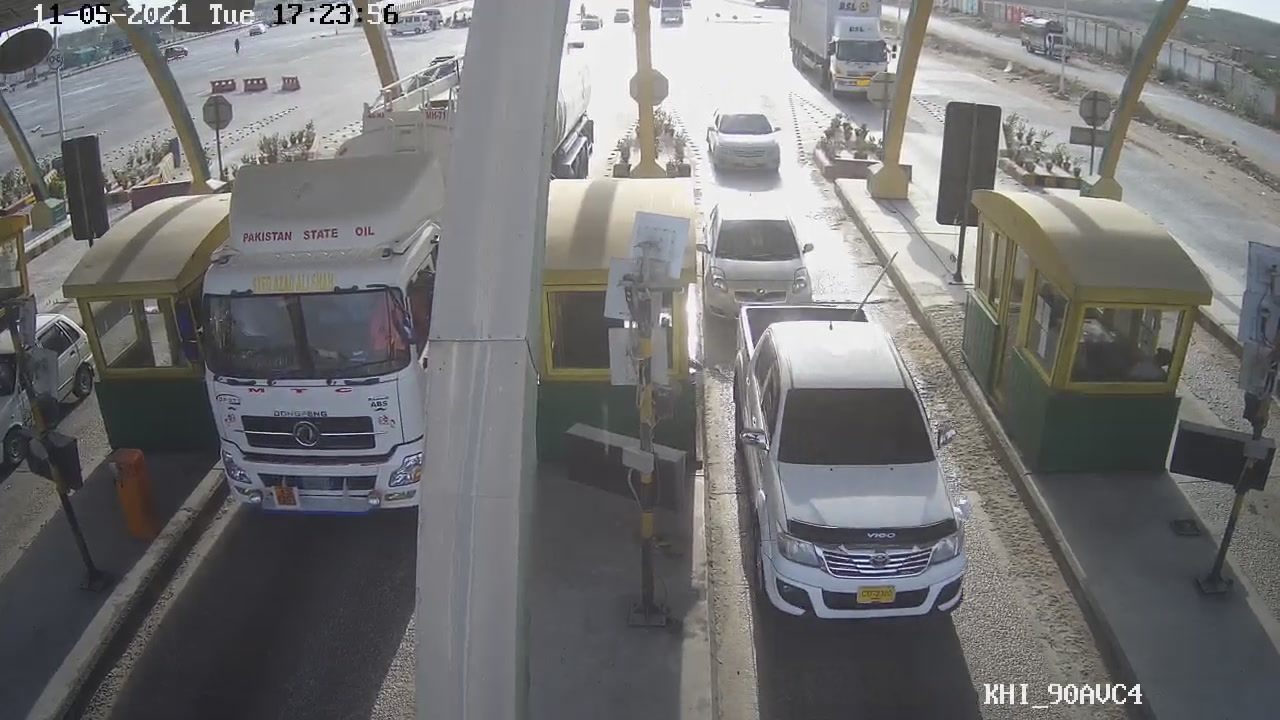F1: (728, 298, 992, 632)
